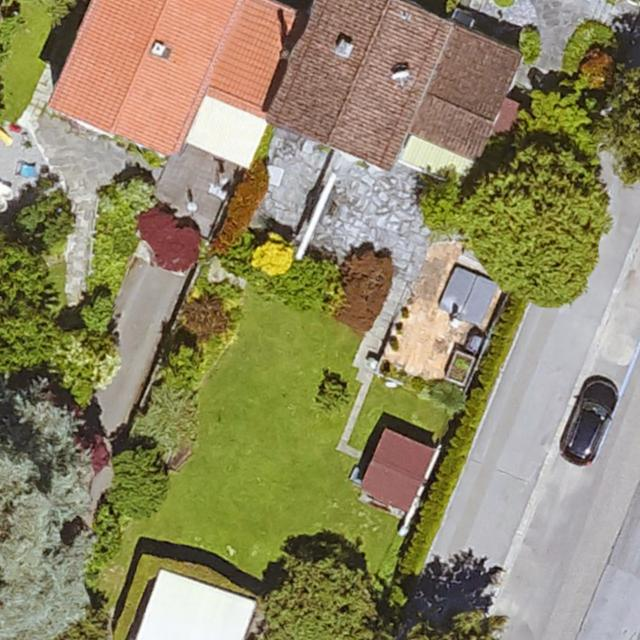tree: (471, 149, 603, 302), (263, 553, 382, 640), (602, 65, 640, 182), (110, 447, 168, 517), (522, 89, 592, 145), (420, 179, 469, 237), (408, 619, 502, 640), (315, 382, 346, 415)
